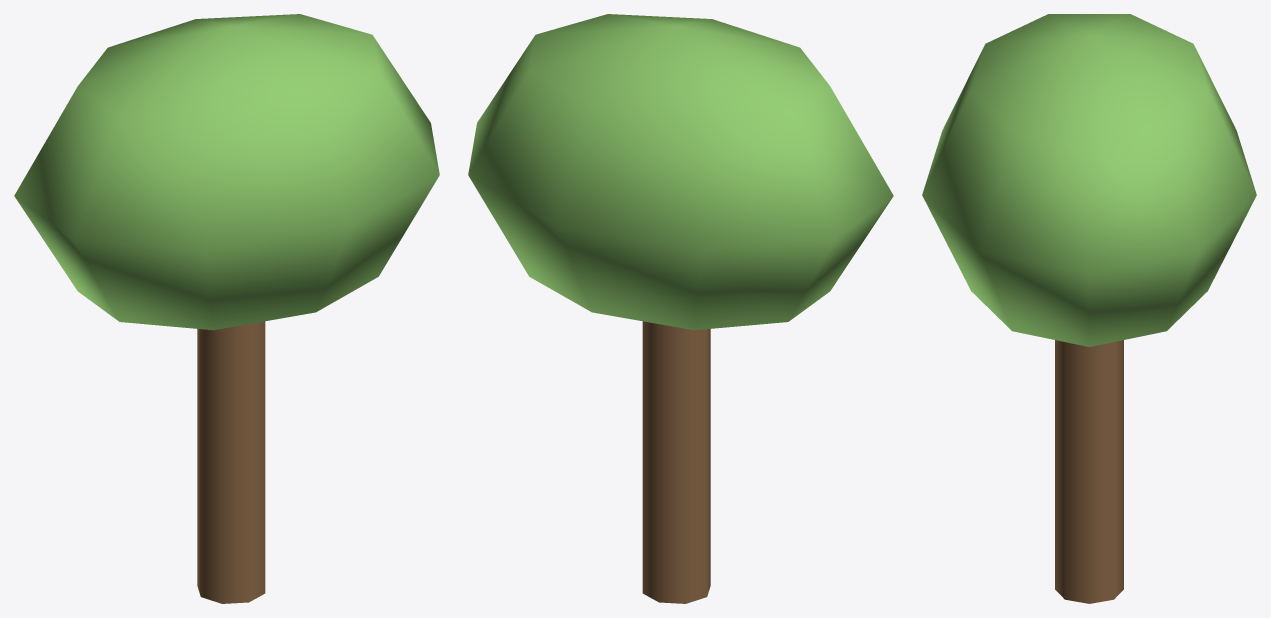
The model's file is tree_deciduous_02.glb.
3 views of the same model, side by side, from view 1: azimuth 30°, elevation 25°; view 2: azimuth 150°, elevation 25°; view 3: azimuth 270°, elevation 25° (orthographic).
Bounding box in the file's own units: 0.6983 × 0.97 × 0.5318.
